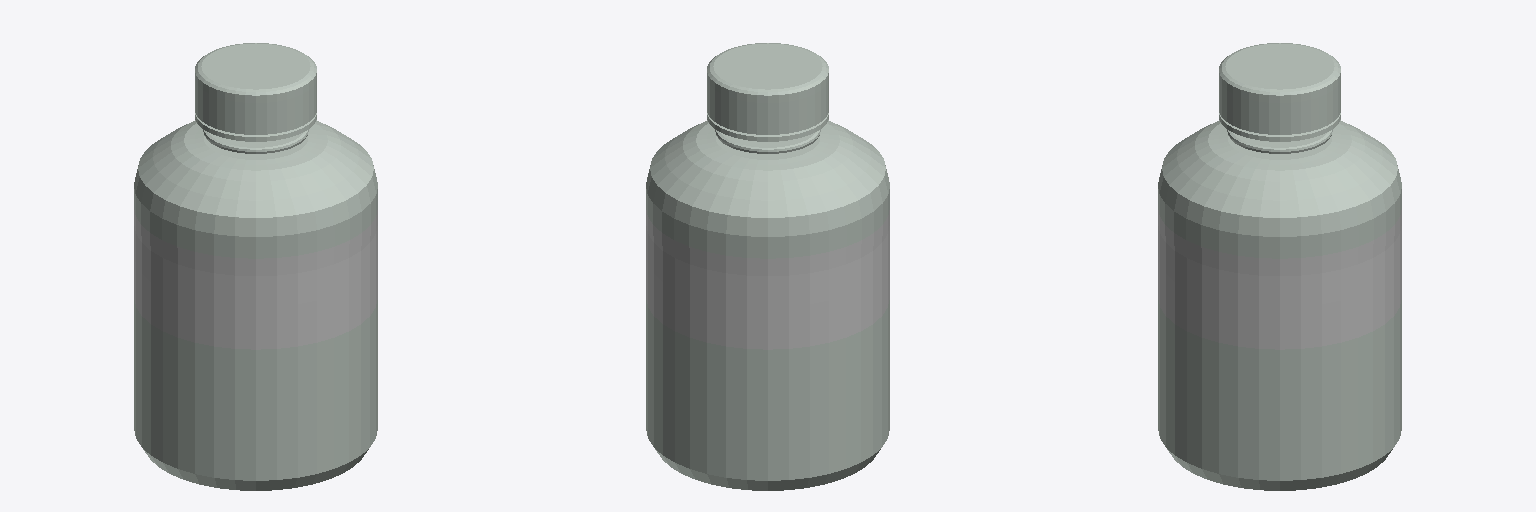
Rendered from bottle280.obj.
3 renders of one model, left to right at view 1: azimuth 30°, elevation 25°; view 2: azimuth 150°, elevation 25°; view 3: azimuth 270°, elevation 25°, orthographic.
Parts seen in each view (by area): view 1: pet280.001; view 2: pet280.001; view 3: pet280.001.
Boxes of the visible parts, x1=… form: pet280.001: x1=134, y1=43, x2=377, y2=490; pet280.001: x1=646, y1=43, x2=889, y2=490; pet280.001: x1=1158, y1=43, x2=1401, y2=490.
Bounding box in the file's own units: 2.52 × 4.31 × 2.52.